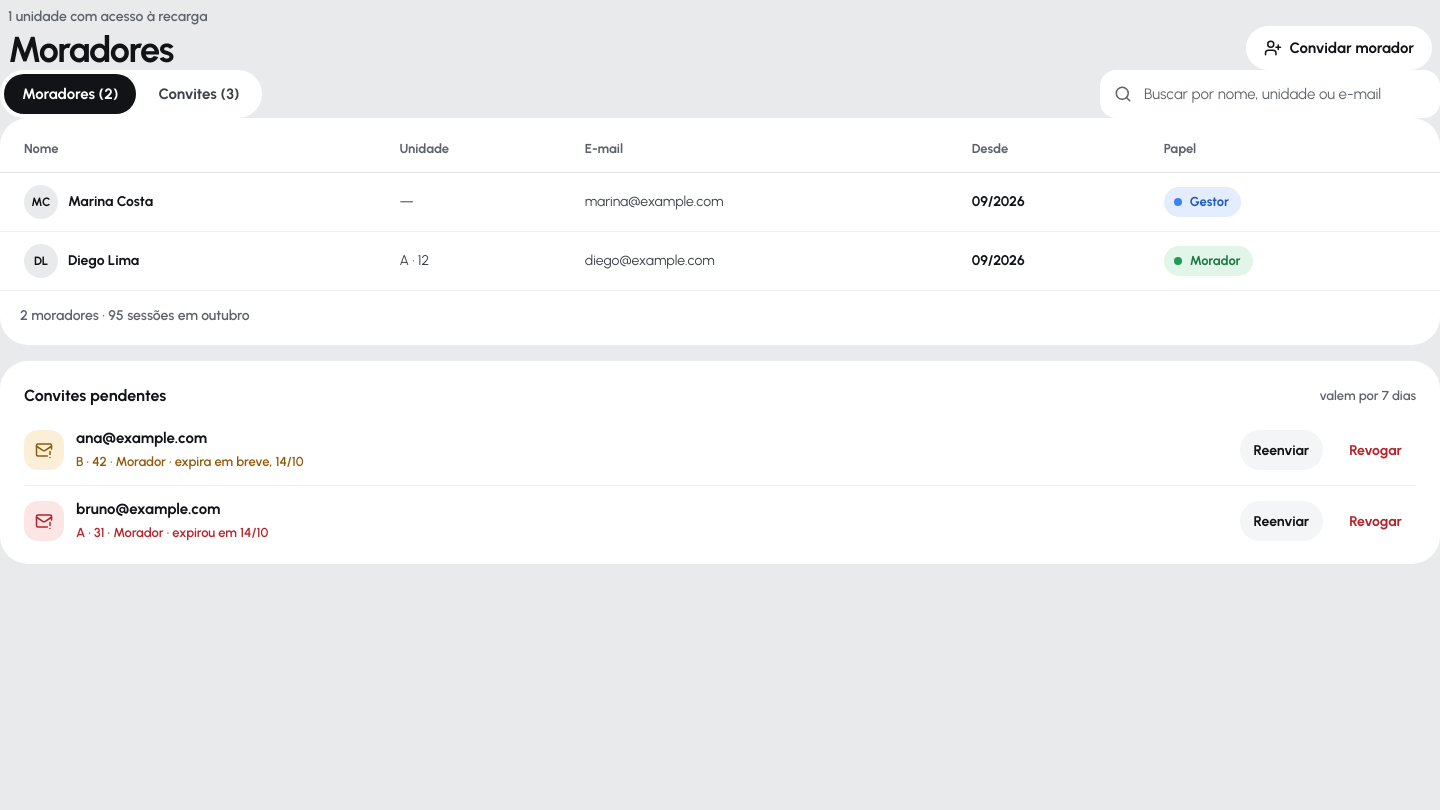
Scenario: ResidentsRoute › revokes an invite only after confirmation
Click the button with aria-label "Revogar convite para ana@example.com".
click(1376, 450)  # box [1335,430,1416,470]
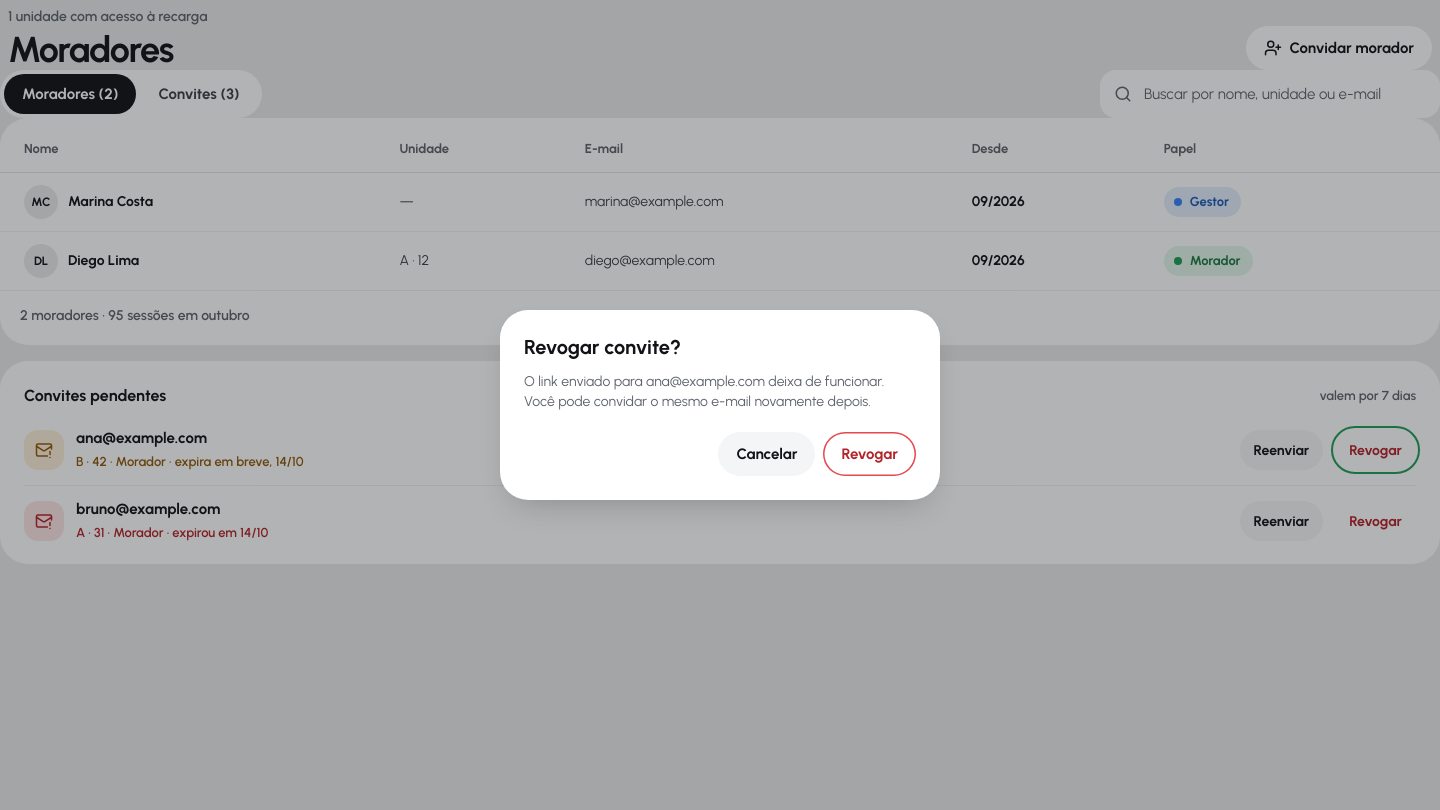
Click the button "Cancelar".
click(767, 454)  # box [718,432,815,476]
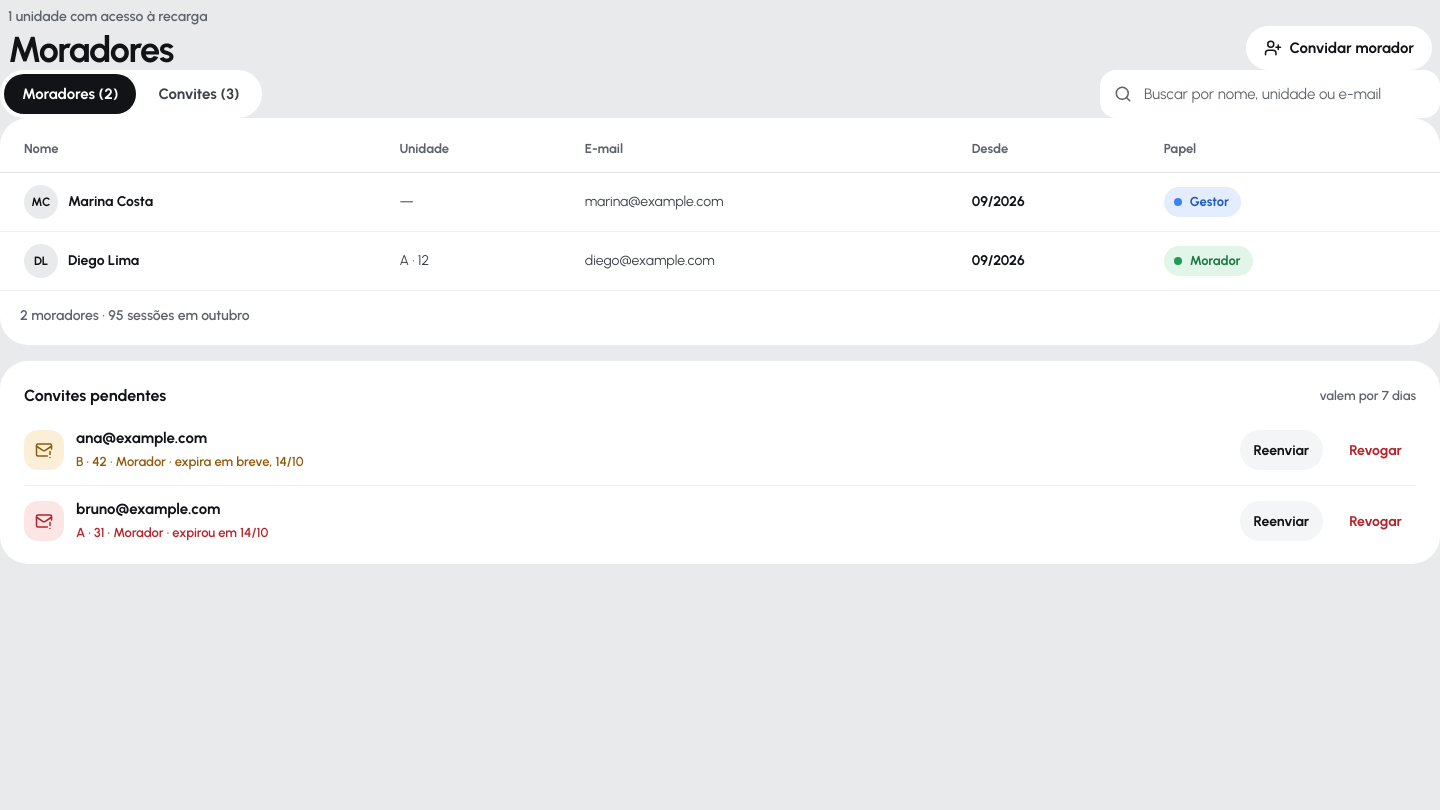
Click the button with aria-label "Revogar convite para ana@example.com".
click(1376, 450)  # box [1335,430,1416,470]
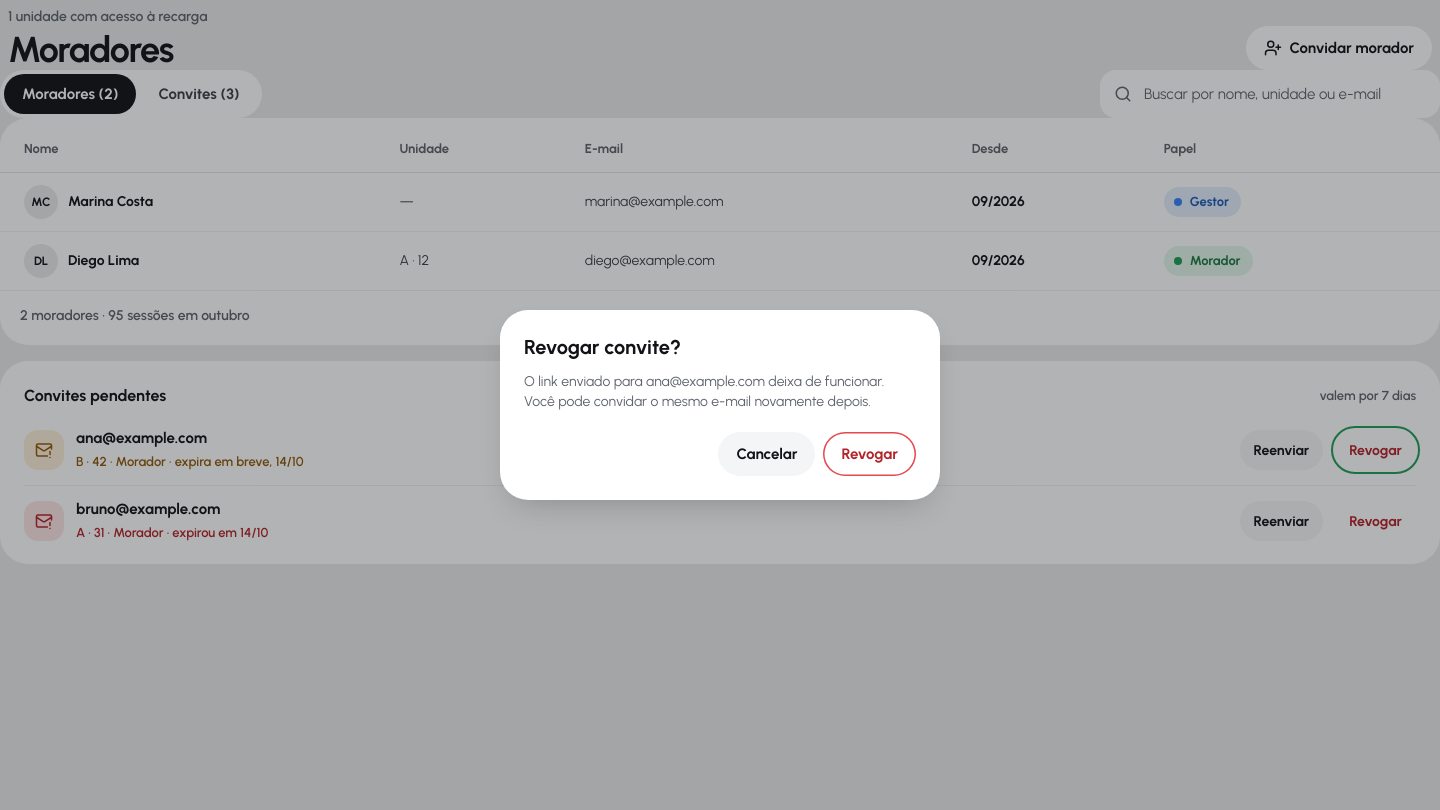
Click the button "Revogar".
click(870, 454)  # box [823,432,916,476]
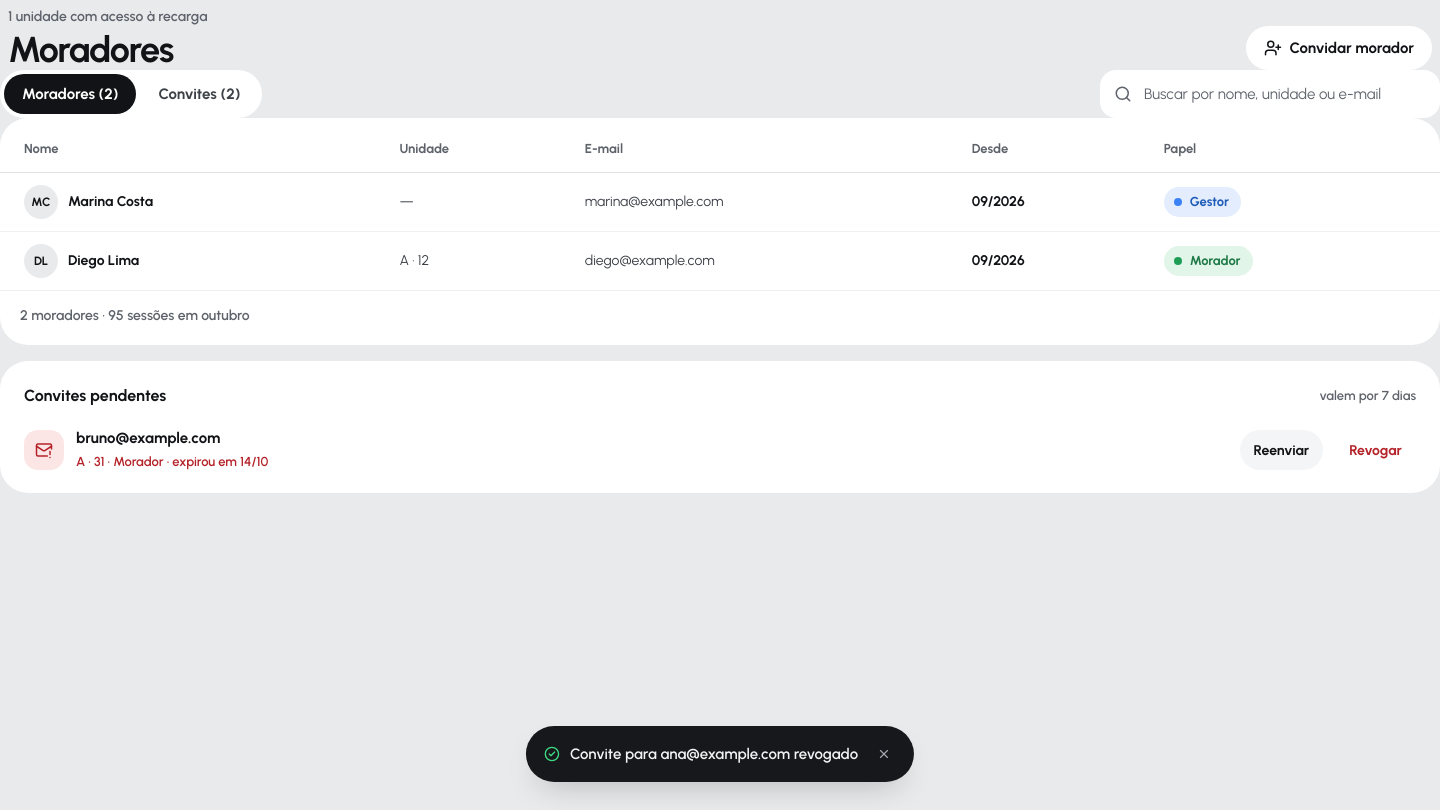
Check: the element "Convites pendentes" does not show "ana@example.com", box [0,361,1439,493]
Check: the text "Convite para ana@example.com revogado" is shown, box [570,743,858,765]
